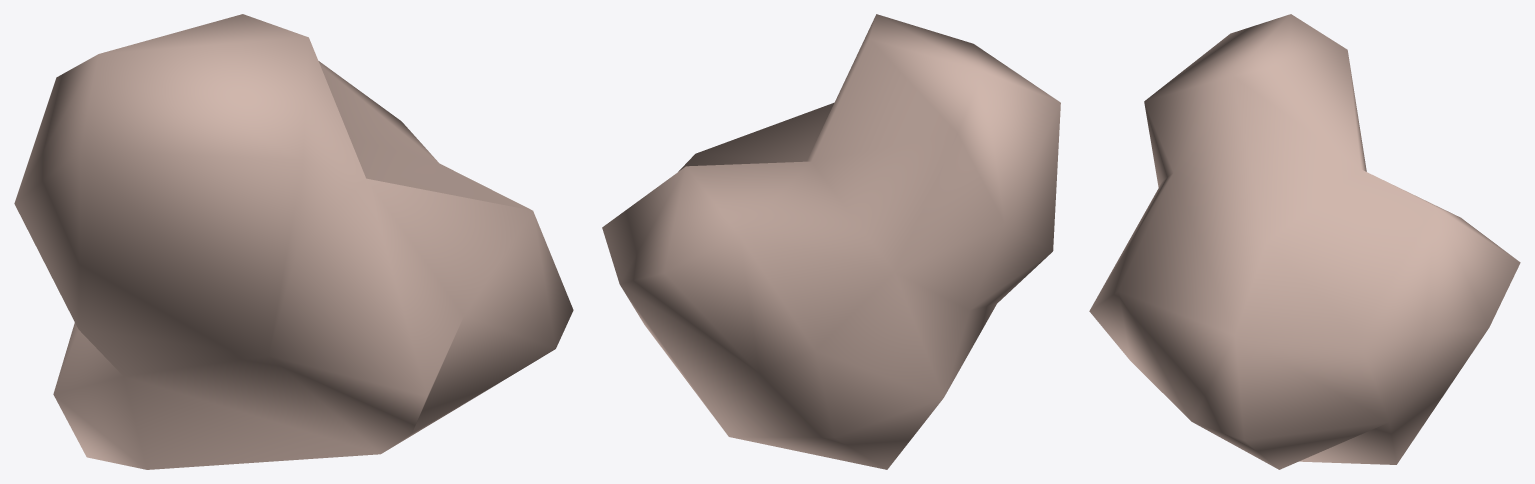
Rendered from rock01_rock02_low.fbx.
3 views of the same model, side by side, from view 1: azimuth 30°, elevation 25°; view 2: azimuth 150°, elevation 25°; view 3: azimuth 270°, elevation 25° (orthographic). The views are drawn at different scales.
Parts seen in each view (by area): view 1: rockLow_02; view 2: rockLow_02; view 3: rockLow_02.
Part boxes in pixels (x1,y1,x2,y2): rockLow_02: (14,14,573,469); rockLow_02: (602,14,1060,469); rockLow_02: (1089,14,1520,469).
Bounding box in the file's own units: 229 × 207 × 223.
